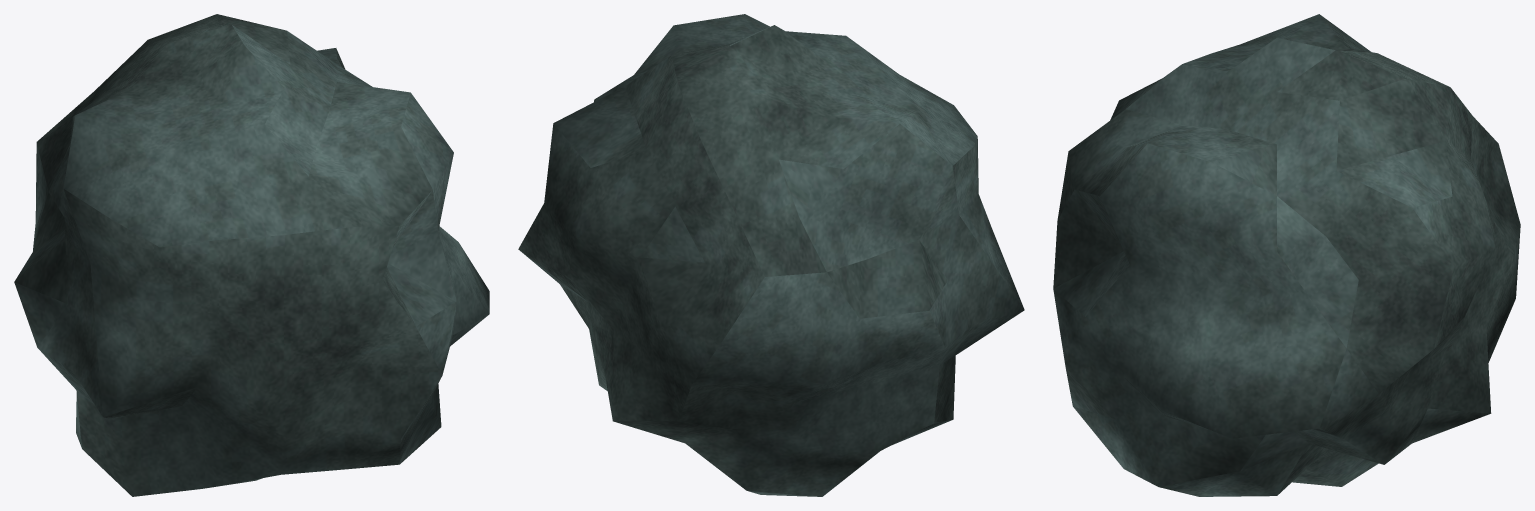
Rendered from rock_1.glb.
The picture shows the model from 3 angles, left to right: view 1: azimuth 30°, elevation 25°; view 2: azimuth 150°, elevation 25°; view 3: azimuth 270°, elevation 25°; orthographic projection. The views are drawn at different scales.
Parts seen in each view (by area): view 1: rock_1_Rock; view 2: rock_1_Rock; view 3: rock_1_Rock.
Boxes of the visible parts, x1,y1,x2,y2 form: rock_1_Rock: (14, 14, 489, 496); rock_1_Rock: (518, 14, 1024, 496); rock_1_Rock: (1053, 14, 1520, 496).
Bounding box in the file's own units: 2.18 × 2.22 × 2.05.
1 material, 1 textured.
